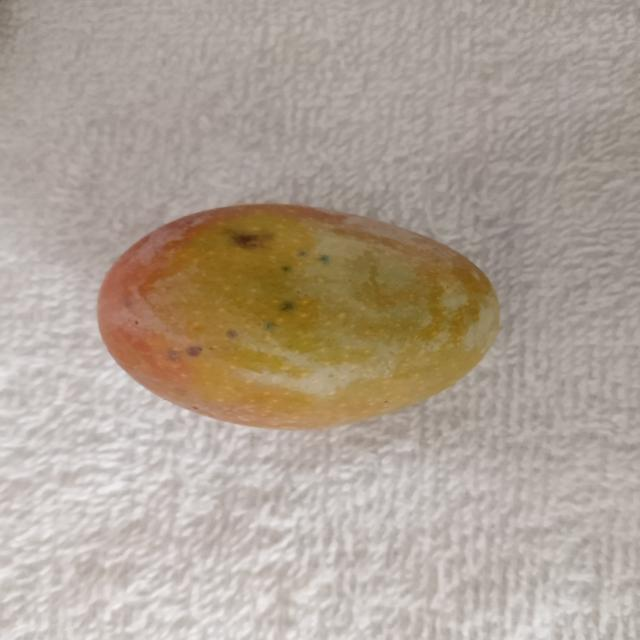mango: (99, 205, 499, 428)
